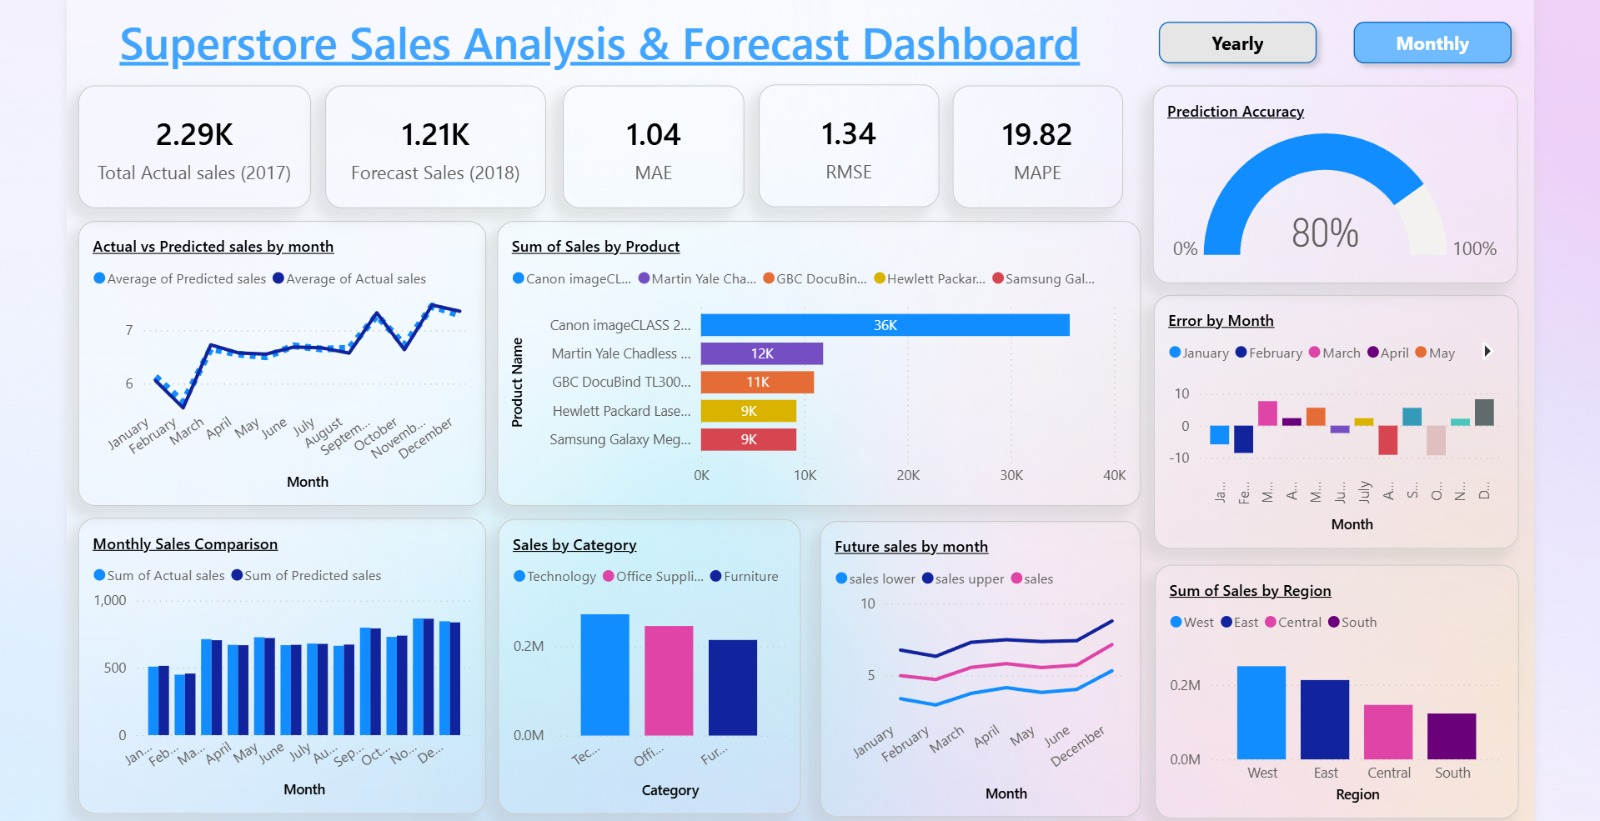

The page's visual inventory and layout, read from the dashboard file:
{"tool":"powerbi","page":{"name":"Page 1","canvas":[1280,720],"ordinal":0},"visuals":[{"type":"shape","title":"Yearly","box":[943.8,10.4,155.7,54.3],"z":0,"group":"g1"},{"type":"lineChart","title":"Actual vs Predicted sales by month","fields":{"Y":["Avg(historical_and_forecast_sales.Predicted sales)","Avg(historical_and_forecast_sales.Actual sales)"],"Category":["historical_and_forecast_sales.Order Date.Variation.Date Hierarchy.Month"]},"box":[10,192.9,355.7,248.6],"z":0},{"type":"shape","title":"Monthly","box":[1113.8,10.4,155.7,54.3],"z":1000,"group":"g2"},{"type":"lineChart","title":"Future sales by month","fields":{"Y":["Min(future_forecasted_sales.sales lower)","Min(future_forecasted_sales.sales upper)","Min(future_forecasted_sales.future sales)"],"Category":["future_forecasted_sales.future order date.Variation.Date Hierarchy.Month"]},"box":[657.1,454.3,280,258.6],"z":3000},{"type":"columnChart","title":"Error by Month","fields":{"Y":["Measures_table.Error"],"Series":["historical_and_forecast_sales.Order Date.Variation.Date Hierarchy.Month"],"Category":["historical_and_forecast_sales.Order Date.Variation.Date Hierarchy.Month"]},"box":[948.6,257.1,318.6,221.4],"z":4000},{"type":"card","fields":{"Values":["Sum(future_forecasted_sales.future sales)"]},"box":[225.7,74.3,192.9,107.1],"z":7000},{"type":"card","fields":{"Values":["Sum(historical_and_forecast_sales.Actual sales)"]},"box":[10,74.3,202.9,107.1],"z":8000},{"type":"card","fields":{"Values":["Sum(forecast_metrics.MAE)"]},"box":[432.9,74.3,158.6,107.1],"z":9000},{"type":"card","fields":{"Values":["Sum(forecast_metrics.MAPE)"]},"box":[772.9,74.3,148.6,107.1],"z":10000},{"type":"card","fields":{"Values":["Sum(forecast_metrics.RMSE)"]},"box":[603.8,73.8,157.5,107.5],"z":11000},{"type":"textbox","title":"Superstore Sales Analysis & Forecast Dashboard ","box":[10,10,910,54],"z":12000},{"type":"gauge","fields":{"Y":["Measures_table.Prediction Accuracy"]},"box":[947.1,74.3,318.6,172.9],"z":13000},{"type":"group","id":"g1","title":"In Active buttons","box":[943.8,10.4,325.7,54.3],"z":15000},{"type":"group","id":"g2","title":"Active buttons","box":[943.8,10.4,325.7,54.3],"z":16000},{"type":"barChart","title":"Sum of Sales by Product","fields":{"Category":["Superstore-DataSet.Product Name"],"Y":["Sum(Superstore-DataSet.Sales)"],"Series":["Superstore-DataSet.Product Name"]},"box":[375.7,192.9,561.4,248.6],"z":17000},{"type":"clusteredColumnChart","title":"Monthly Sales Comparison","fields":{"Category":["historical_and_forecast_sales.Order Date.Variation.Date Hierarchy.Month"],"Y":["Sum(historical_and_forecast_sales.Actual sales)","Sum(historical_and_forecast_sales.Predicted sales)"]},"box":[10,452,356,258],"z":20000},{"type":"columnChart","title":"Sales by Category","fields":{"Category":["Superstore-DataSet.Category"],"Y":["Sum(Superstore-DataSet.Sales)"],"Series":["Superstore-DataSet.Category"]},"box":[376.2,452.5,263.8,257.5],"z":21000},{"type":"columnChart","title":"Sum of Sales by Region","fields":{"Category":["Superstore-DataSet.Region"],"Y":["Sum(Superstore-DataSet.Sales)"],"Series":["Superstore-DataSet.Region"]},"box":[948.8,492.5,317.5,221.2],"z":22000}]}

Visuals, with their boxes on the page's 1280x720 design canvas (x1, y1, x2, y2). These are canvas units, not pixel positions in the 1600x821 screenshot, which may show the page scaled, cropped or inside an application window:
"Yearly" shape: 944 10 1100 65
"Actual vs Predicted sales by month" lineChart: 10 193 366 442
"Monthly" shape: 1114 10 1270 65
"Future sales by month" lineChart: 657 454 937 713
"Error by Month" columnChart: 949 257 1267 478
card - Sum(future_forecasted_sales.future sales): 226 74 419 181
card - Sum(historical_and_forecast_sales.Actual sales): 10 74 213 181
card - Sum(forecast_metrics.MAE): 433 74 592 181
card - Sum(forecast_metrics.MAPE): 773 74 922 181
card - Sum(forecast_metrics.RMSE): 604 74 761 181
"Superstore Sales Analysis & Forecast Dashboard " textbox: 10 10 920 64
gauge - Measures_table.Prediction Accuracy: 947 74 1266 247
"In Active buttons" group: 944 10 1270 65
"Active buttons" group: 944 10 1270 65
"Sum of Sales by Product" barChart: 376 193 937 442
"Monthly Sales Comparison" clusteredColumnChart: 10 452 366 710
"Sales by Category" columnChart: 376 452 640 710
"Sum of Sales by Region" columnChart: 949 492 1266 714
